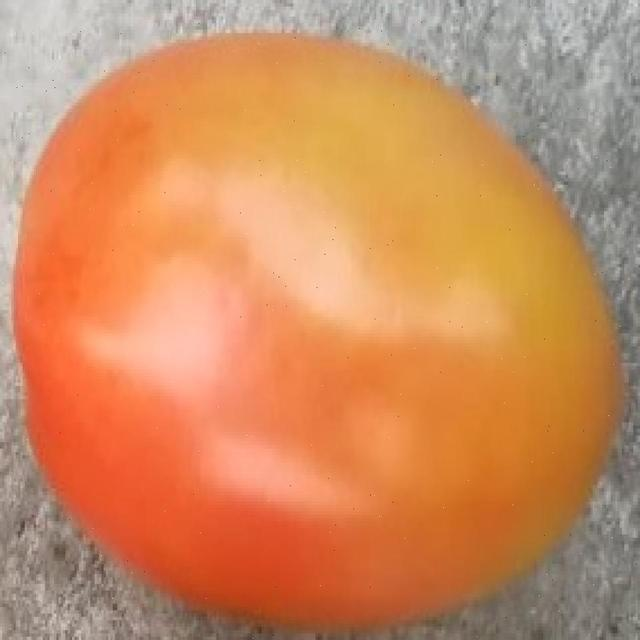Spotted wilt Virus Fruit: (67, 5, 122, 65)
